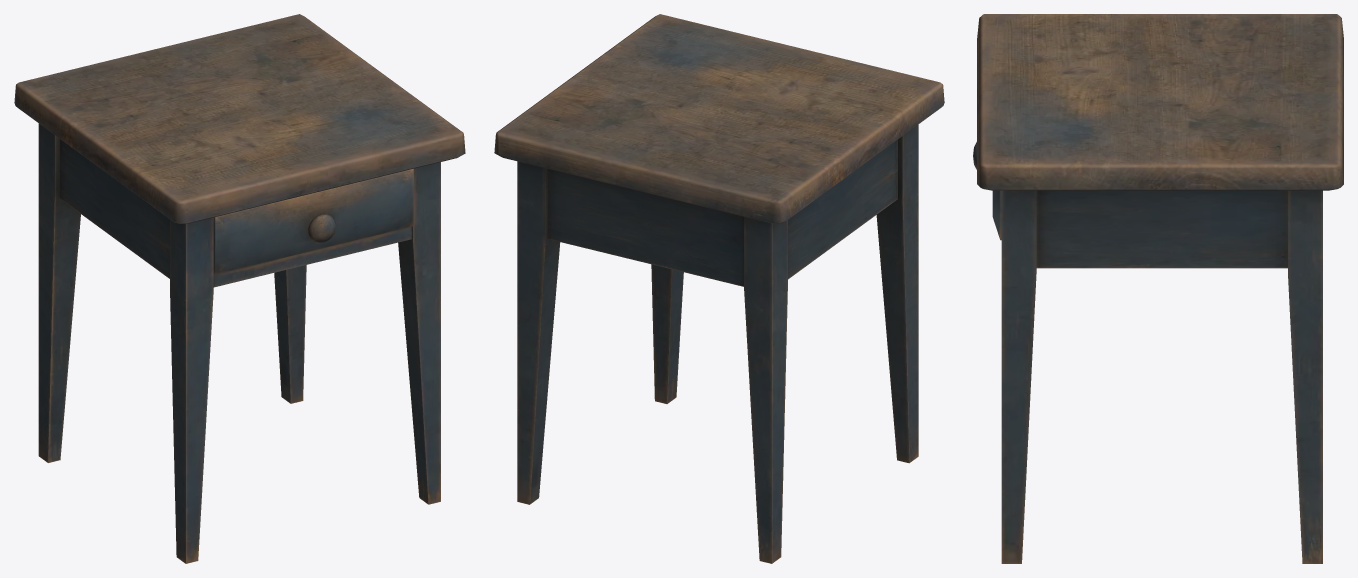
File: 9c201695-6847-410f-89df-7cdc0ec14f23.glb
3 renders of one model, left to right at view 1: azimuth 30°, elevation 25°; view 2: azimuth 150°, elevation 25°; view 3: azimuth 270°, elevation 25°, orthographic. The views are drawn at different scales.
Parts seen in each view (by area): view 1: painted_wooden_nightstand; view 2: painted_wooden_nightstand; view 3: painted_wooden_nightstand.
Boxes of the visible parts, x1,y1,x2,y2 form: painted_wooden_nightstand: (14,14,465,563); painted_wooden_nightstand: (494,14,944,563); painted_wooden_nightstand: (973,14,1343,563).
Bounding box in the file's own units: 0.5046 × 0.6155 × 0.5087.
Materials: 1 (1 with a texture image).
